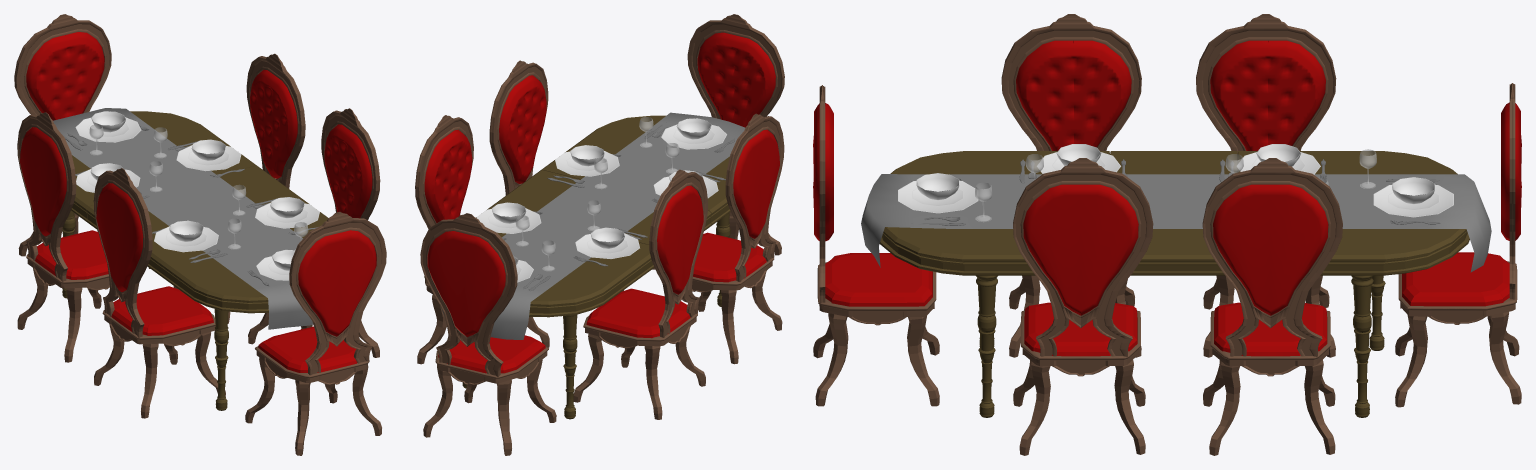
File: DIningSet.fbx
3 views of the same model, side by side, from view 1: azimuth 30°, elevation 25°; view 2: azimuth 150°, elevation 25°; view 3: azimuth 270°, elevation 25° (orthographic). The views are drawn at different scales.
Parts seen in each view (by area): view 1: Chair_pCube3_pCube3 (×6), TableCloth, pCube2, plate (×5), pCylinder10 (×3), Bowl (×4), pCylinder9 (×3), pCylinder11, pCylinder8, pCylinder6; view 2: Chair_pCube3_pCube3 (×6), TableCloth, pCube2, plate (×5), pCylinder10 (×4), pCylinder9 (×3), Bowl (×4), pCylinder2, pCylinder8, pCylinder6; view 3: Chair_pCube3_pCube3 (×6), pCube2, TableCloth, pCylinder10 (×3), pCylinder9 (×3), plate (×2), pCylinder12, pCylinder13, pCylinder6 (×2), Bowl (×2), pCylinder8, pCylinder2.
Boxes of the visible parts, bbox=[...] form: Chair_pCube3_pCube3 (×6): bbox=[14, 14, 386, 384]; TableCloth: bbox=[53, 108, 313, 329]; pCube2: bbox=[71, 111, 327, 313]; plate (×5): bbox=[75, 117, 319, 252]; pCylinder10 (×3): bbox=[64, 287, 381, 435]; Bowl (×4): bbox=[91, 111, 304, 241]; pCylinder9 (×3): bbox=[17, 269, 310, 455]; pCylinder11: bbox=[214, 309, 228, 410]; pCylinder8: bbox=[245, 357, 274, 423]; pCylinder6: bbox=[195, 332, 225, 395]; Chair_pCube3_pCube3 (×6): bbox=[415, 14, 784, 384]; TableCloth: bbox=[441, 112, 745, 339]; pCube2: bbox=[424, 115, 730, 317]; plate (×5): bbox=[476, 124, 726, 258]; pCylinder10 (×4): bbox=[417, 273, 782, 455]; pCylinder9 (×3): bbox=[423, 290, 738, 437]; Bowl (×4): bbox=[492, 118, 711, 248]; pCylinder2: bbox=[563, 314, 577, 419]; pCylinder8: bbox=[573, 334, 603, 402]; pCylinder6: bbox=[527, 359, 556, 422]; Chair_pCube3_pCube3 (×6): bbox=[813, 14, 1521, 376]; pCube2: bbox=[879, 151, 1469, 275]; TableCloth: bbox=[861, 174, 1491, 272]; pCylinder10 (×3): bbox=[815, 313, 1335, 454]; pCylinder9 (×3): bbox=[1019, 312, 1521, 455]; plate (×2): bbox=[898, 180, 1453, 217]; pCylinder12: bbox=[976, 275, 997, 417]; pCylinder13: bbox=[1351, 275, 1373, 417]; pCylinder6 (×2): bbox=[907, 275, 1040, 406]; Bowl (×2): bbox=[916, 173, 1434, 204]; pCylinder8: bbox=[1395, 315, 1427, 407]; pCylinder2: bbox=[1369, 275, 1385, 350].
Bounding box in the file's own units: 1.53 × 1.38 × 3.01.
